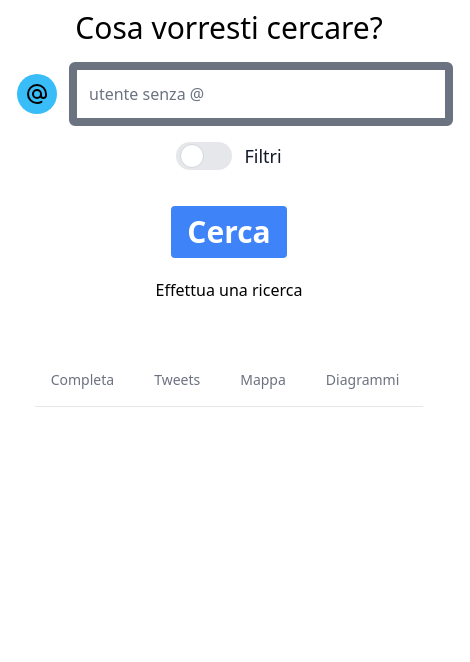
SearchForm component › shouldn't allow to toggle no interval for keyword search
This screenshot has width=470, height=662.
Click the checkbox with test id "^filtersToggle$" at point(229, 156), box [176,142,282,170]
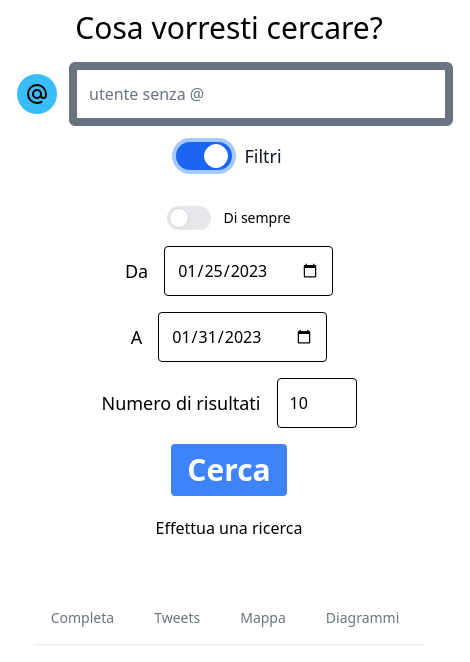
Click the button with test id "^typeSearchToggle$" at point(37, 94), box [17,74,57,114]
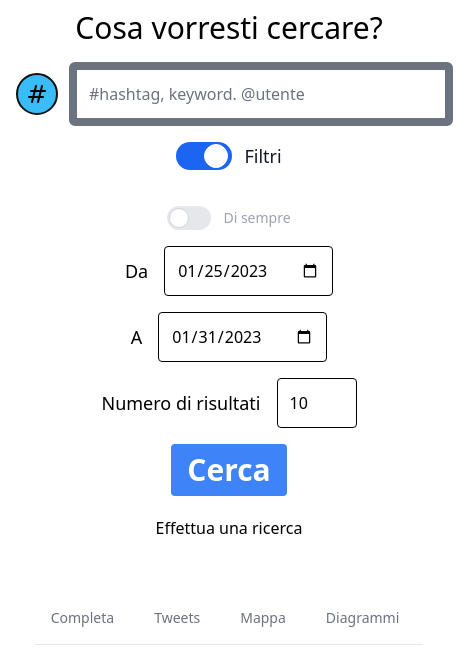
Now the checkbox with test id "^ofEverDate$" is disabled, box [167,206,291,230]
